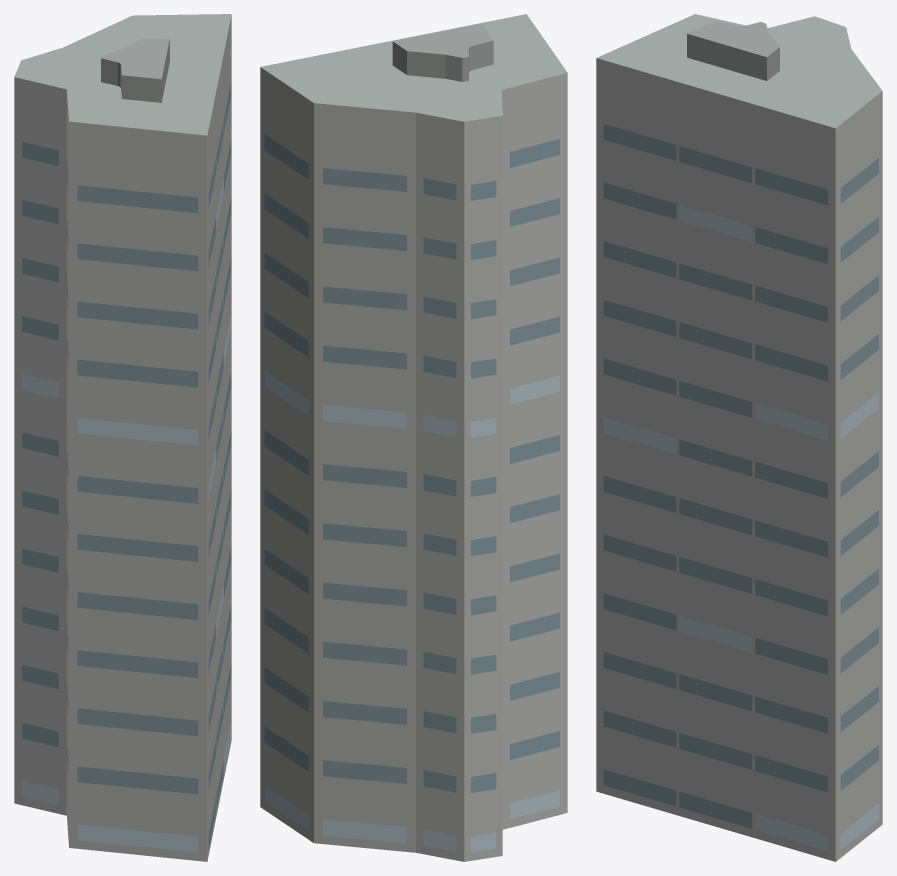
The model's file is fallback-godeok-gracium-150.glb.
3 views of the same model, side by side, from view 1: azimuth 30°, elevation 25°; view 2: azimuth 150°, elevation 25°; view 3: azimuth 270°, elevation 25° (orthographic).
Parts seen in each view (by area): view 1: fallback-godeok-gracium-150; view 2: fallback-godeok-gracium-150; view 3: fallback-godeok-gracium-150.
Boxes of the visible parts, left/top/right/bottom form: fallback-godeok-gracium-150: left=14, top=14, right=231, bottom=861; fallback-godeok-gracium-150: left=260, top=14, right=567, bottom=861; fallback-godeok-gracium-150: left=596, top=14, right=882, bottom=861.
Size of the model in its own units: 24.61 by 76 by 26.04.
